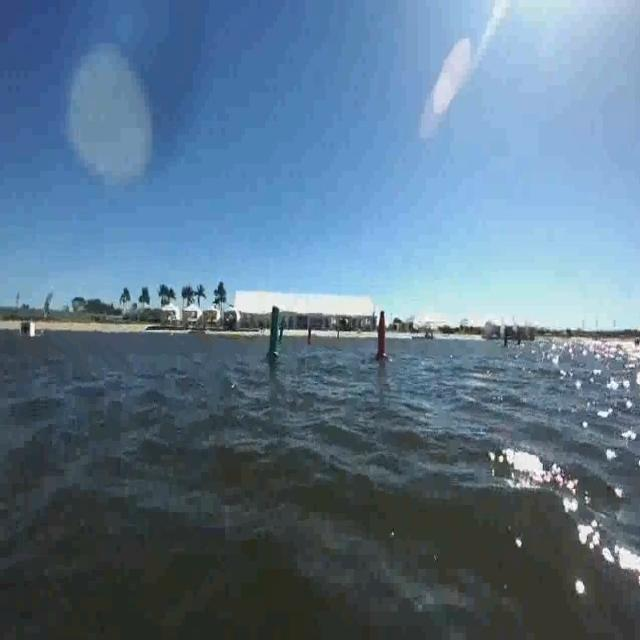green-column-buoy: (266, 304, 285, 360)
red-column-buoy: (375, 309, 390, 360)
